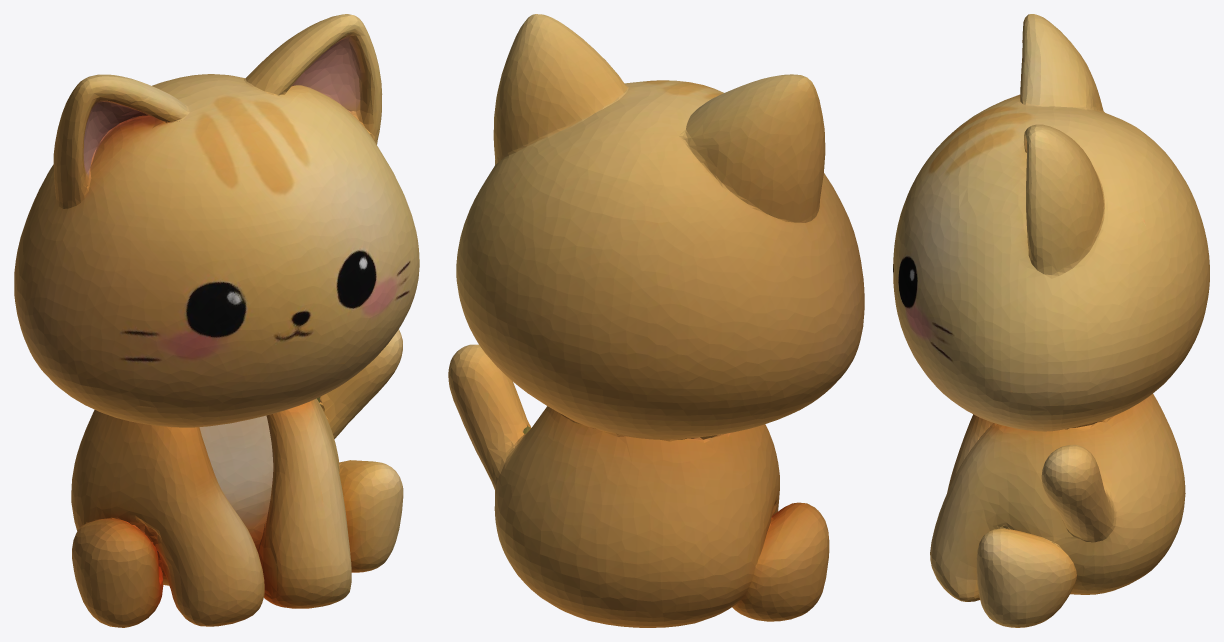
The model's file is cat.glb.
3 renders of one model, left to right at view 1: azimuth 30°, elevation 25°; view 2: azimuth 150°, elevation 25°; view 3: azimuth 270°, elevation 25°, orthographic. The views are drawn at different scales.
Visible parts, largest first — view 1: geometry_0; view 2: geometry_0; view 3: geometry_0.
Part boxes in pixels (left/top/right/bottom): geometry_0: left=14, top=14, right=419, bottom=627; geometry_0: left=448, top=14, right=864, bottom=627; geometry_0: left=893, top=14, right=1209, bottom=627.
Bounding box in the file's own units: 0.7312 × 1 × 0.5817.
Materials: 1 (1 with a texture image).
